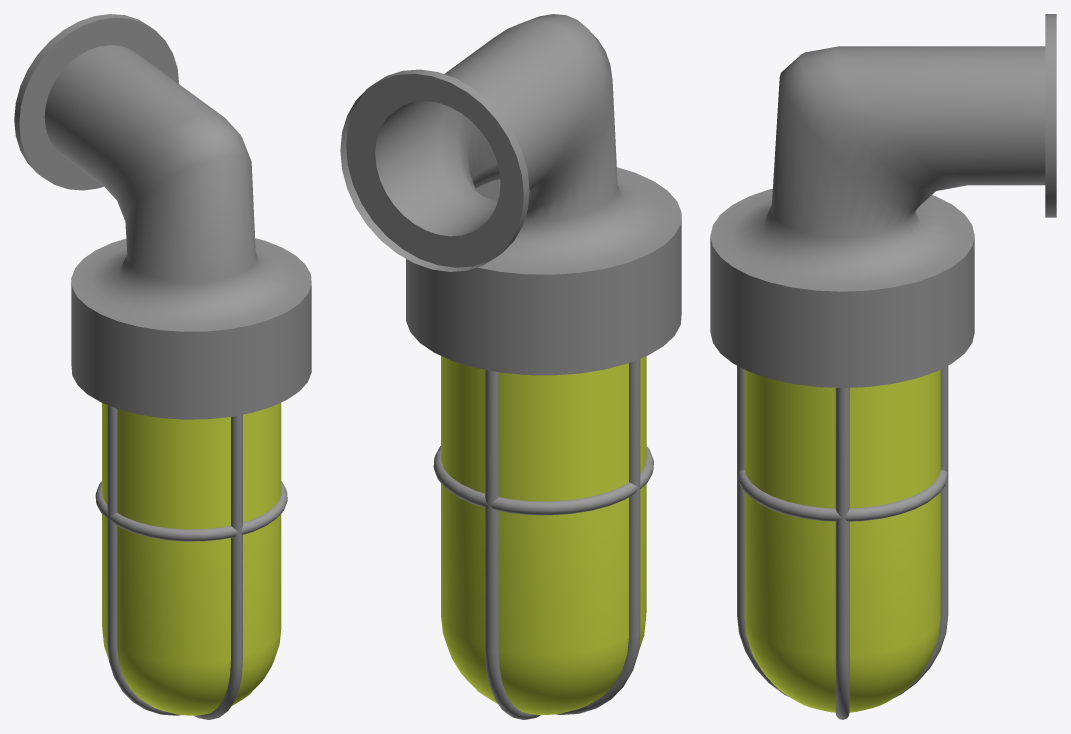
The model's file is MSH_Lamp02.FBX.
3 renders of one model, left to right at view 1: azimuth 30°, elevation 25°; view 2: azimuth 150°, elevation 25°; view 3: azimuth 270°, elevation 25°, orthographic. The views are drawn at different scales.
Visible parts, largest first — view 1: MSH_Lamp02; view 2: MSH_Lamp02; view 3: MSH_Lamp02.
Part boxes in pixels (box(x1,y1,x2,y2)): MSH_Lamp02: box(14, 14, 311, 719); MSH_Lamp02: box(340, 14, 681, 719); MSH_Lamp02: box(710, 14, 1056, 719).
Bounding box in the file's own units: 7.29 × 20.9 × 9.55.
